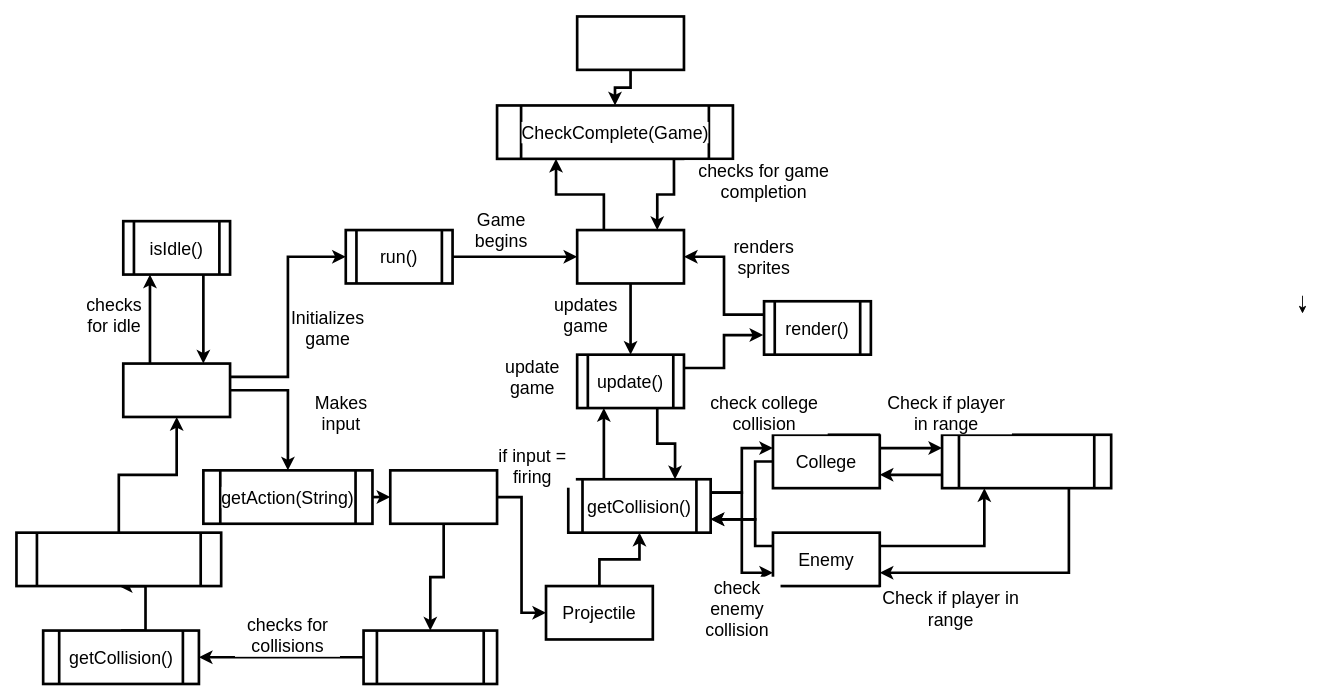
This 1325x700 diagram has some shape labels left out. Each missing label, with the centre of its shape:
Game: the point at 630,256
getPosition(): the point at 430,657
Input: the point at 443,497
Objective: the point at 630,43
Player: the point at 176,390
shootAtPlayer(): the point at 1026,461
updateMovement(): the point at 118,559
